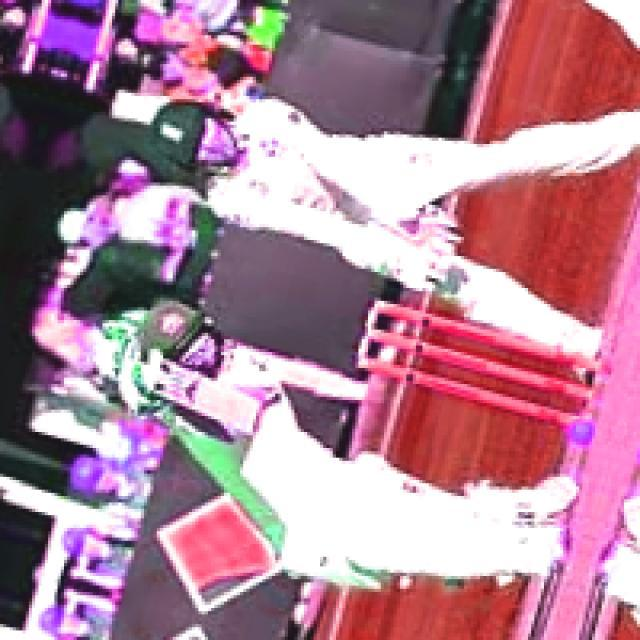bat: (123, 371, 295, 441)
toe: (242, 400, 269, 439)
